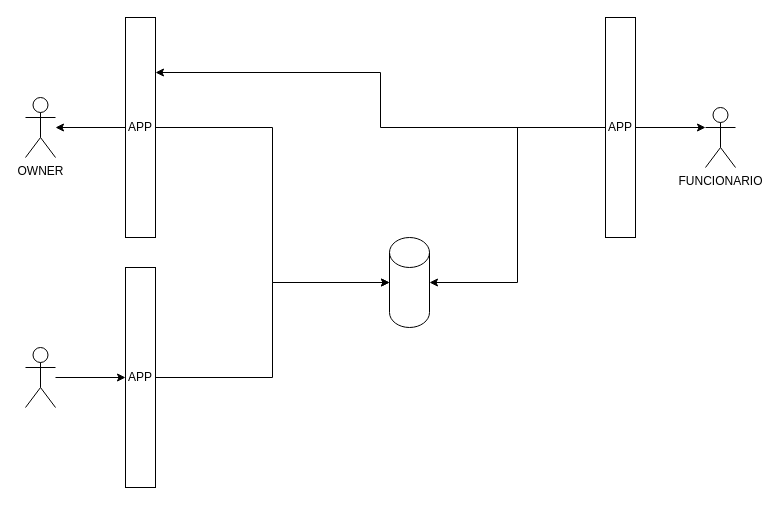
Some shapes in this 779 by 505 pixel diagram are drawn without their labels. The shapes that lost their labels are listed below. From the top down, each one's box as (x1, y1, x2, y2) in pixels, then its label:
(388, 236, 430, 328): DATABASE
(24, 346, 56, 408): USER
